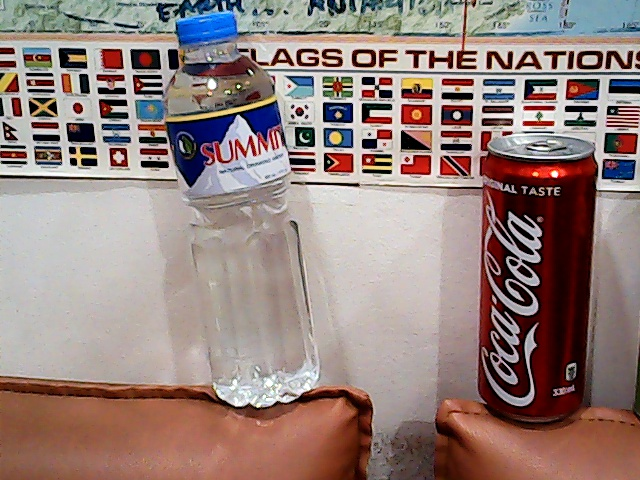Cola: (471, 118, 600, 430)
Summit Water: (154, 9, 333, 416)
